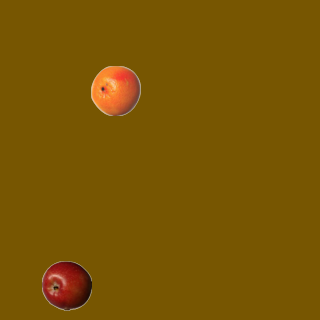Apple Braeburn: (41, 260, 91, 310)
Grapefruit Pink: (90, 65, 140, 115)
